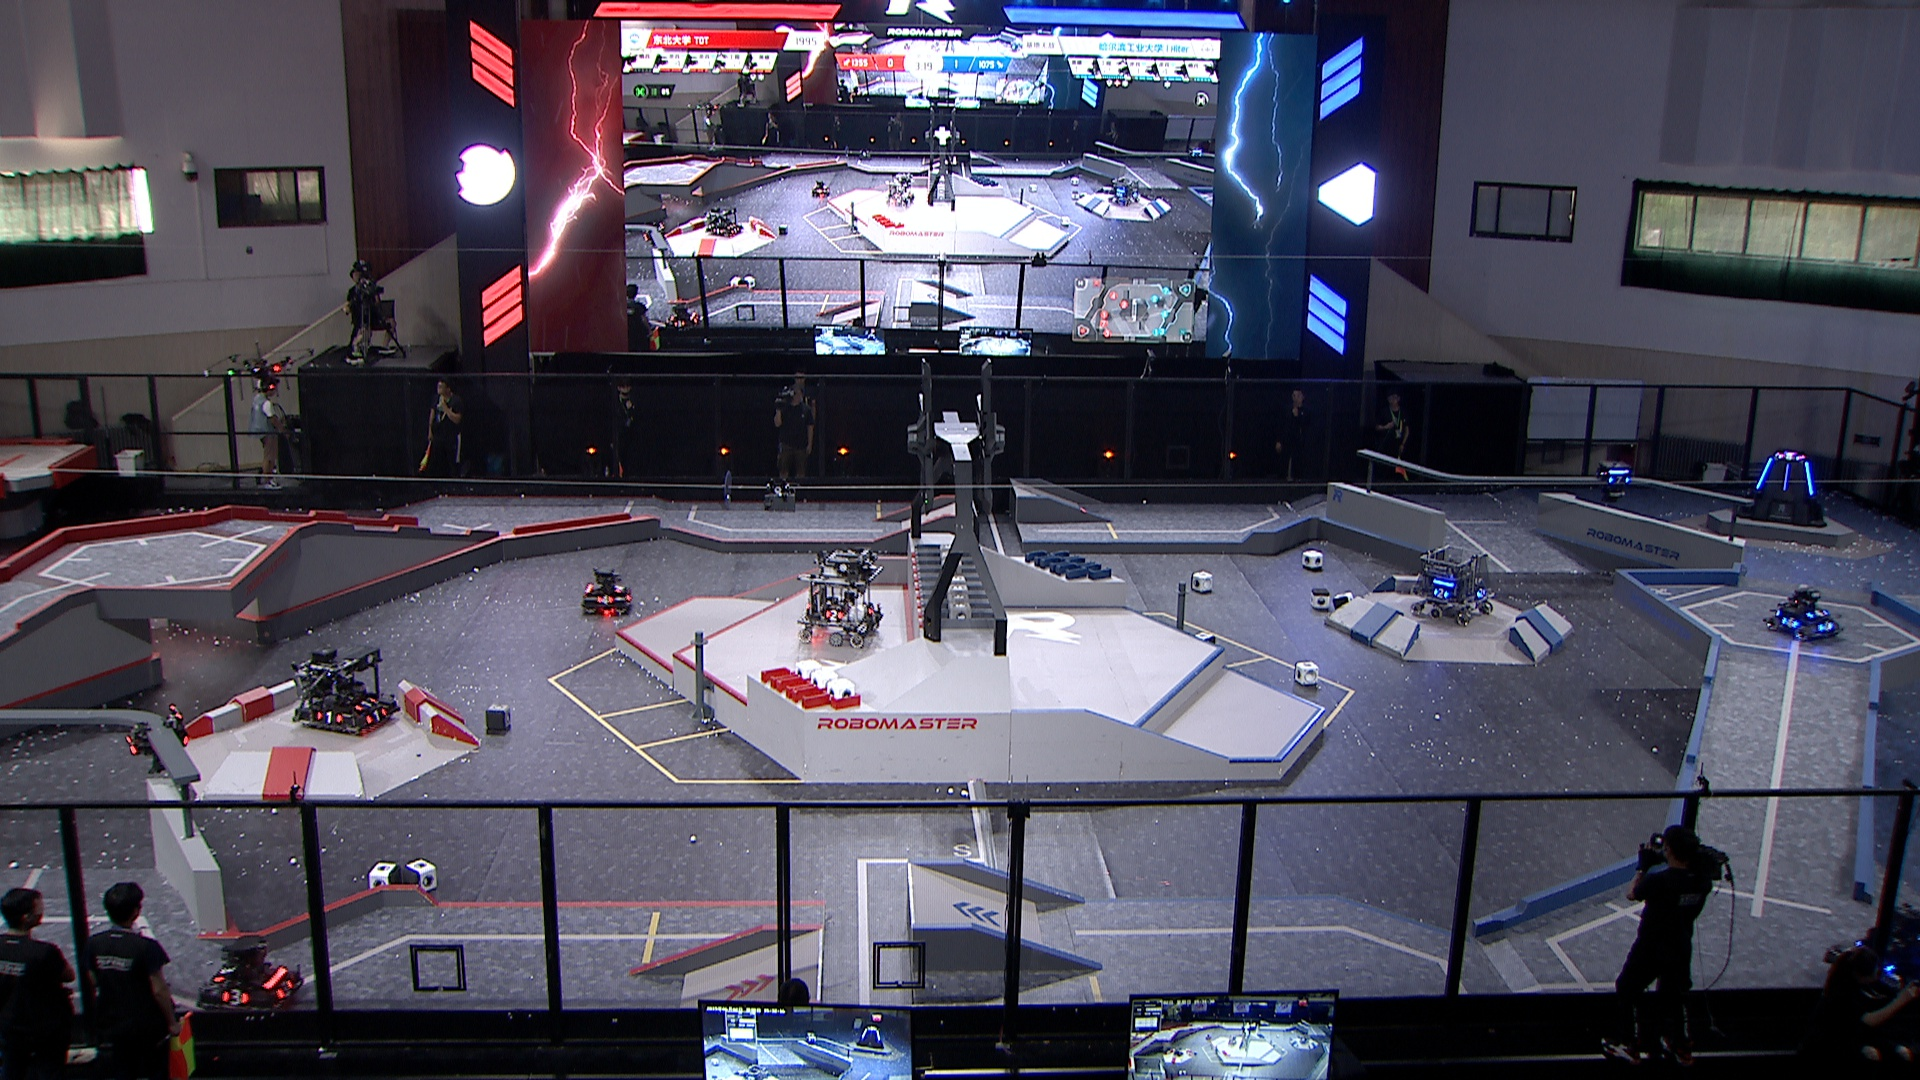armor: (1754, 452, 1774, 491), (313, 711, 347, 731), (1799, 460, 1816, 498), (219, 986, 249, 1007), (120, 732, 141, 760), (272, 977, 295, 1001), (211, 959, 231, 986), (363, 705, 386, 727), (353, 694, 378, 712), (1782, 613, 1803, 632), (1779, 462, 1792, 491), (1429, 584, 1449, 603), (823, 607, 844, 622), (1607, 471, 1629, 485), (1817, 621, 1836, 637), (1472, 584, 1490, 600), (1807, 604, 1826, 618), (593, 593, 615, 607), (613, 582, 626, 593)
base: (1733, 444, 1822, 531)
car: (284, 640, 400, 736), (1820, 897, 1920, 1006), (795, 542, 885, 647), (196, 935, 305, 1021), (1408, 545, 1495, 626), (1759, 584, 1845, 642), (580, 564, 636, 617)
ignore: (702, 204, 742, 237), (1106, 174, 1143, 206), (884, 174, 916, 207), (1775, 446, 1807, 463), (808, 178, 831, 196), (1187, 145, 1207, 164)
watcher: (121, 702, 195, 781), (1596, 456, 1634, 505)
